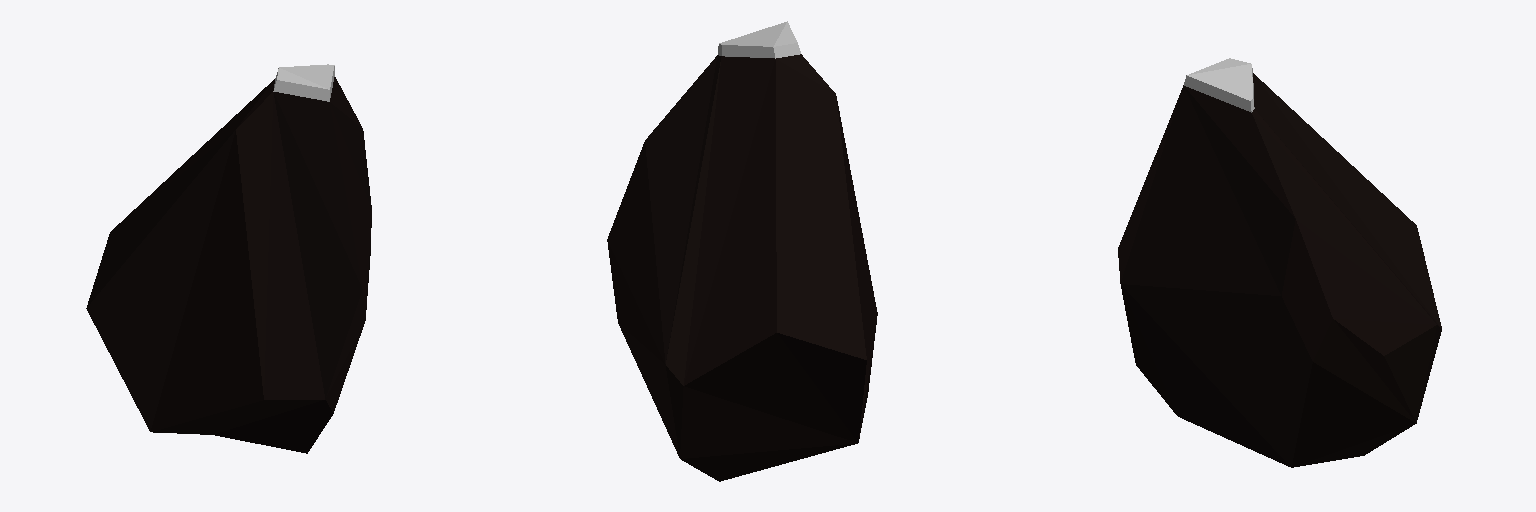
File: Rock_7.obj
The picture shows the model from 3 angles: view 1: azimuth 30°, elevation 25°; view 2: azimuth 150°, elevation 25°; view 3: azimuth 270°, elevation 25°; orthographic projection.
Visible parts, largest first — view 1: Cube.001_Cube.013; view 2: Cube.001_Cube.013; view 3: Cube.001_Cube.013.
Boxes of the visible parts, <box> form: Cube.001_Cube.013: <box>86,64,371,453</box>; Cube.001_Cube.013: <box>607,21,877,481</box>; Cube.001_Cube.013: <box>1118,58,1441,467</box>.
Bounding box in the file's own units: 1.3 × 1.82 × 1.36.